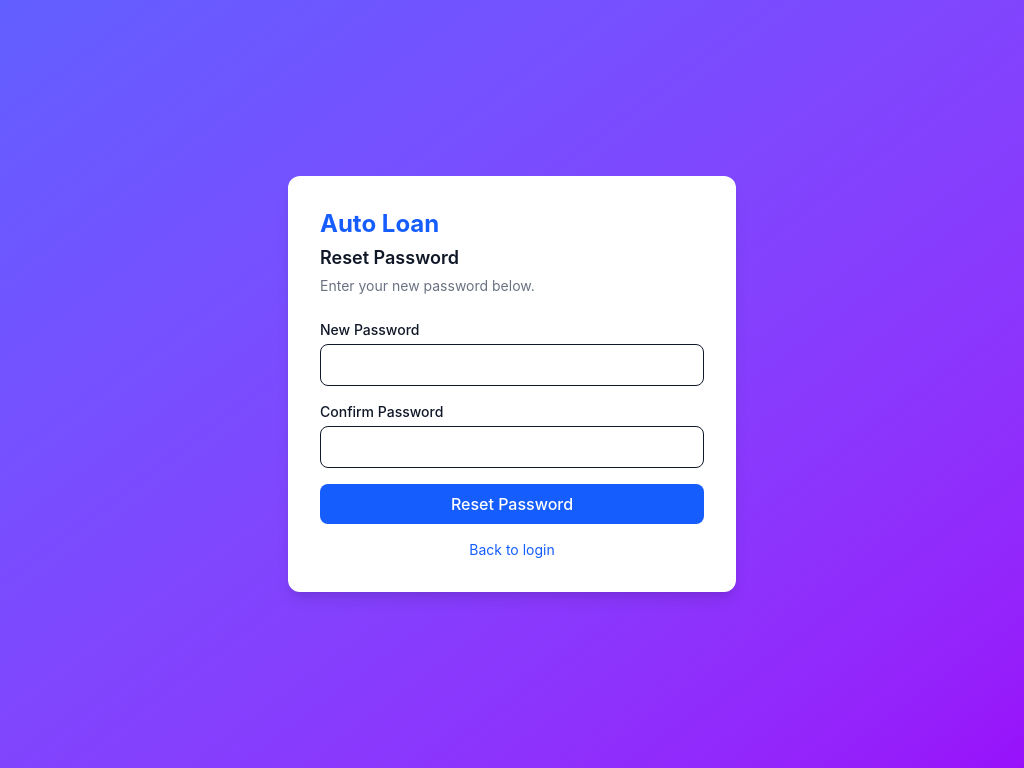
Test: ResetPasswordPage › shows error when password too short
The image size is (1024, 768).
Type "ab" into the password field labelled "New Password".
click(512, 365); type("ab")  # box [320,344,704,386]
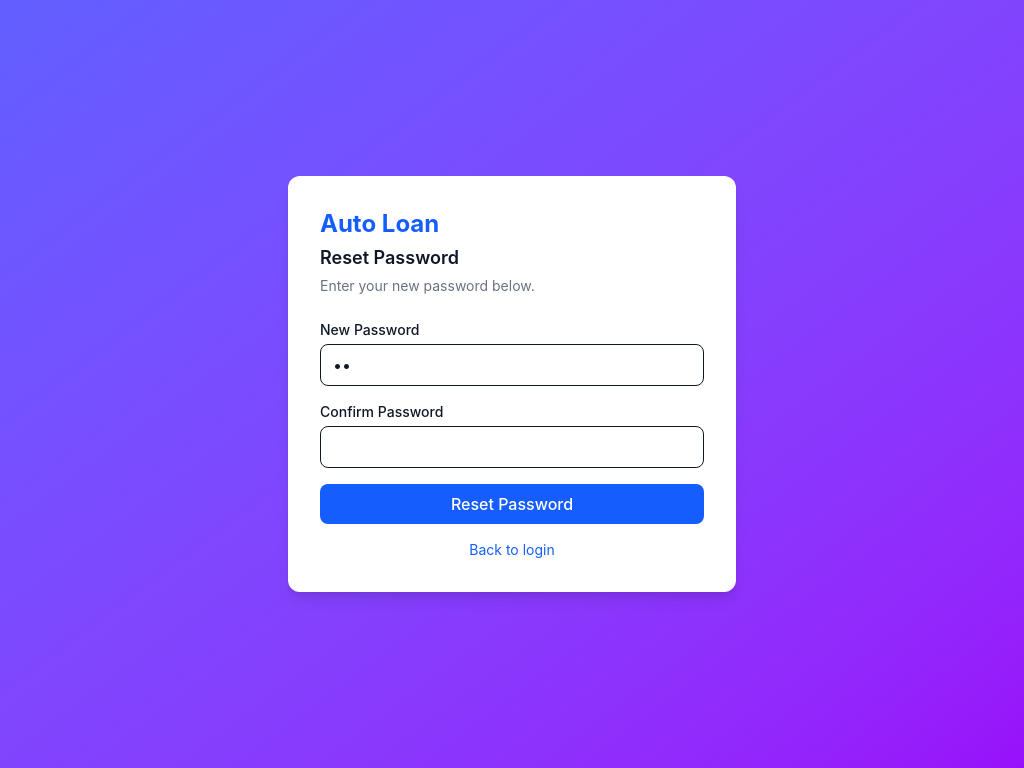
Type "ab" into the password field labelled "Confirm Password".
click(512, 447); type("ab")  # box [320,426,704,468]
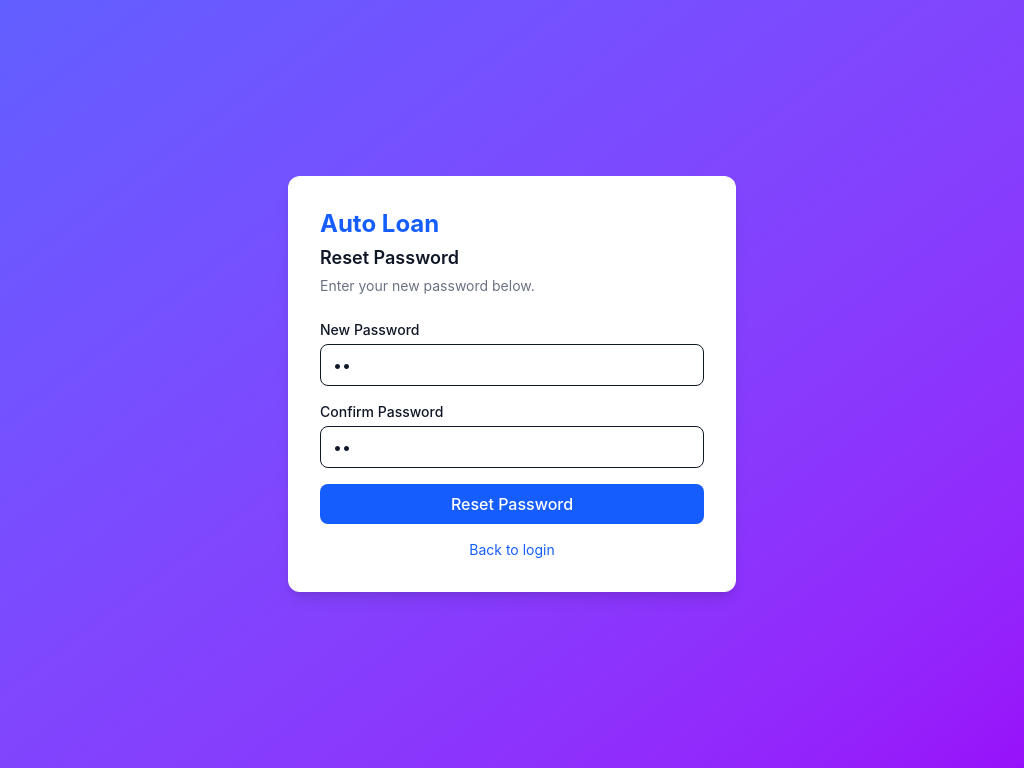
Click the button "Reset Password".
click(512, 504)  # box [320,484,704,524]
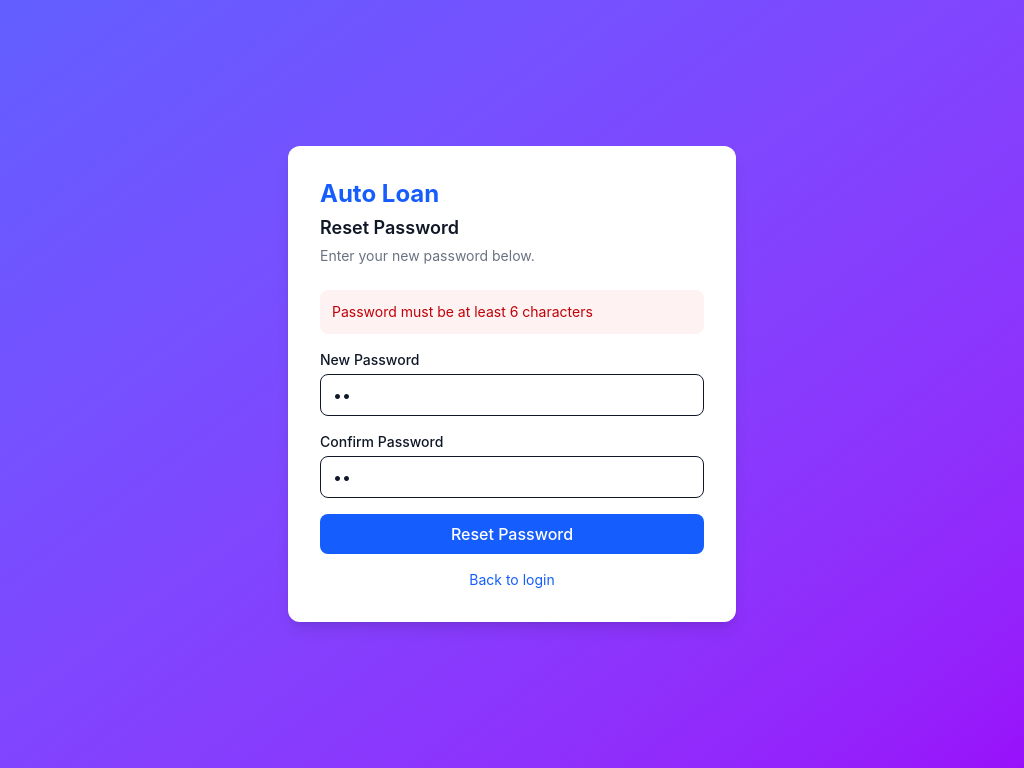
Now the message reads "Password must be at least 6 characters", box [332,303,593,320]
